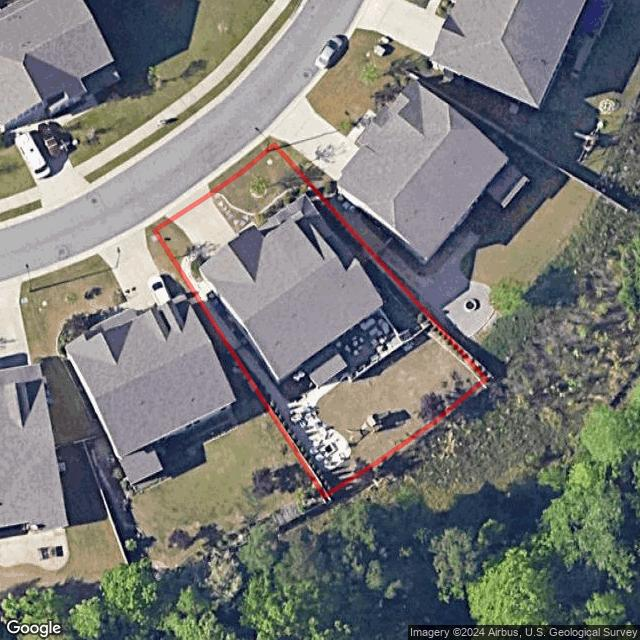Driveway: (170, 192, 240, 262)
Extra-Driveway: (165, 183, 212, 221)
Extra-Lawn: (208, 138, 276, 195), (151, 215, 171, 231)
House: (200, 194, 386, 387)
Lawn: (154, 144, 485, 497)
Other: (181, 247, 427, 478), (211, 187, 307, 232)
Sidewalk: (236, 221, 257, 237)
